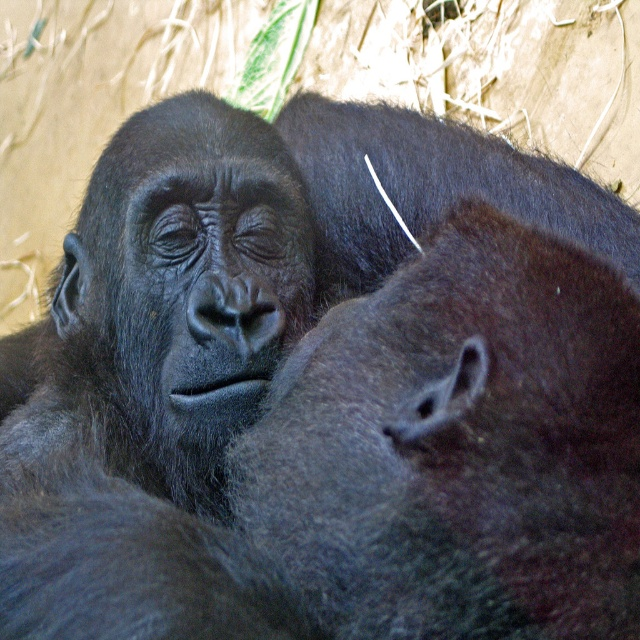Monkey: (0, 194, 640, 639)
